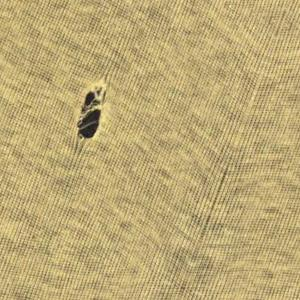hole: (75, 82, 107, 148)
